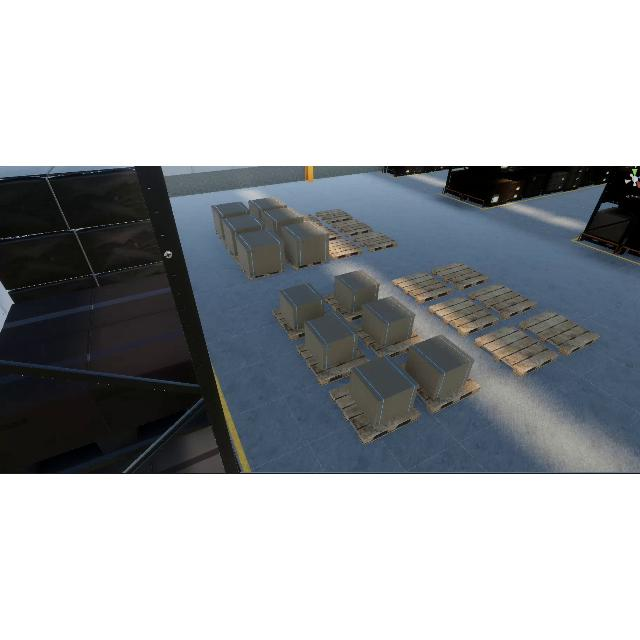wooden_pallet: (329, 383, 420, 446), (475, 325, 558, 378), (518, 309, 600, 356), (428, 295, 499, 338), (468, 283, 537, 320), (416, 376, 481, 415), (296, 344, 351, 387), (392, 272, 453, 305), (430, 261, 489, 292), (272, 309, 305, 342), (352, 231, 398, 253), (328, 238, 364, 260)
